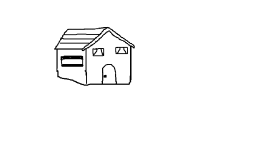door: (99, 62, 119, 87)
open_window: (59, 54, 84, 69), (90, 46, 106, 58), (113, 46, 130, 56)
roof: (54, 26, 135, 51)
small_house: (0, 1, 260, 157)
wall: (83, 26, 133, 86)
